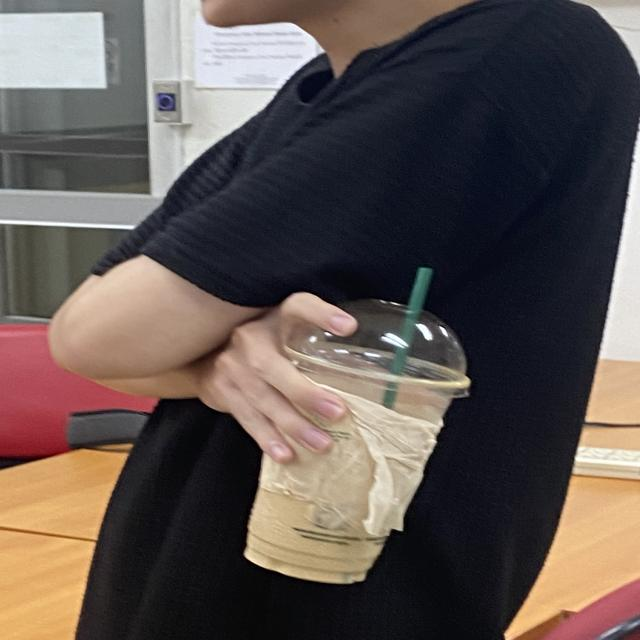cup: (239, 298, 473, 585)
